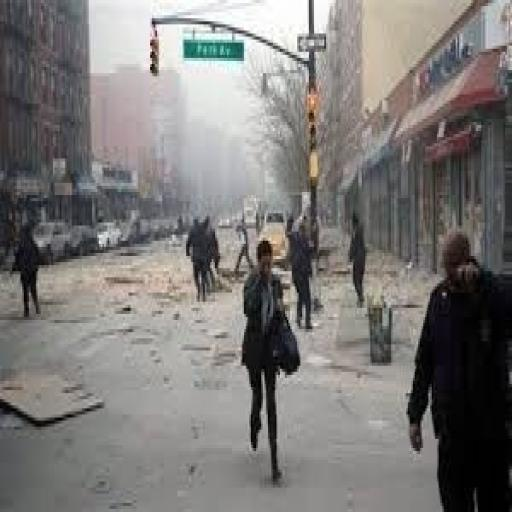running: (237, 234, 302, 484)
